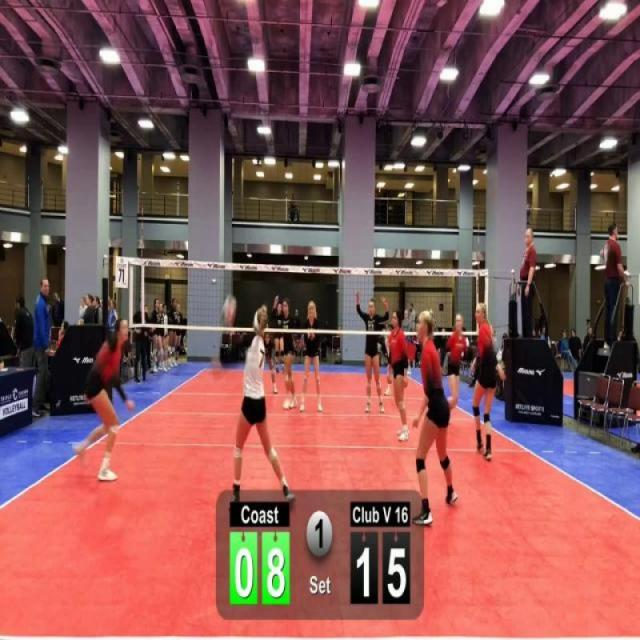volleyball: (218, 293, 240, 326)
